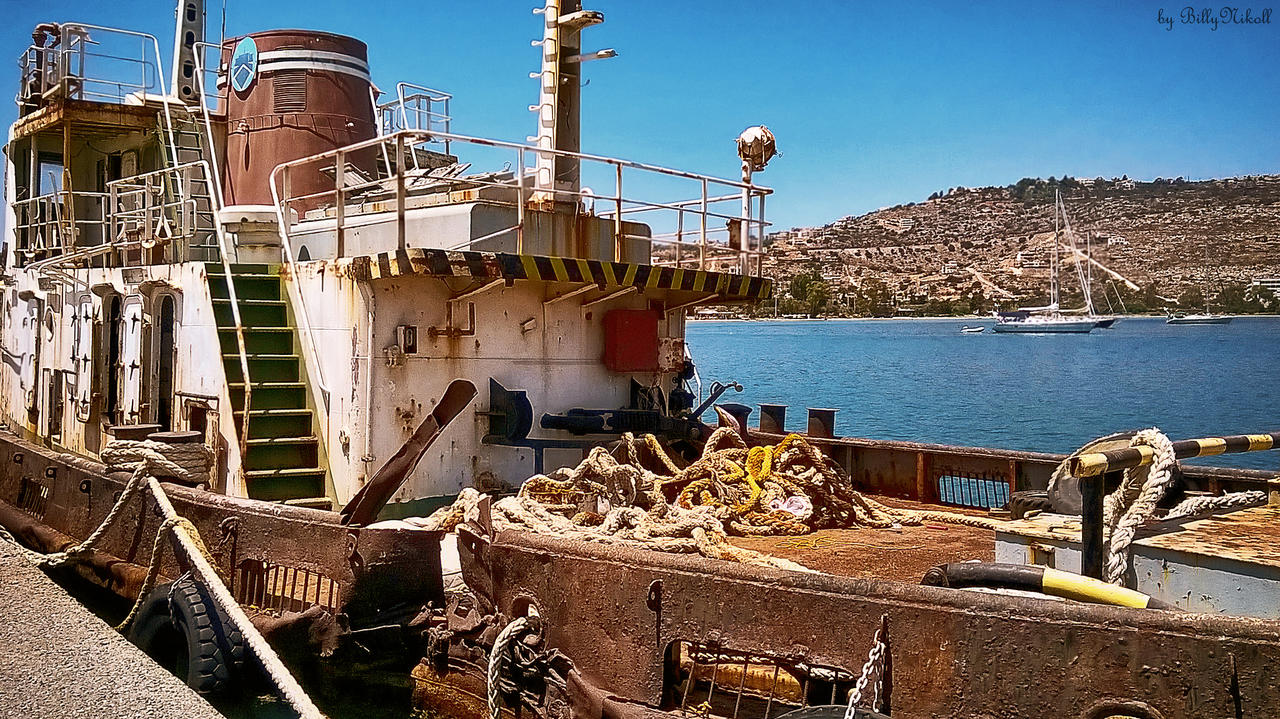rust: (457, 526, 1038, 710), (235, 519, 395, 629)
